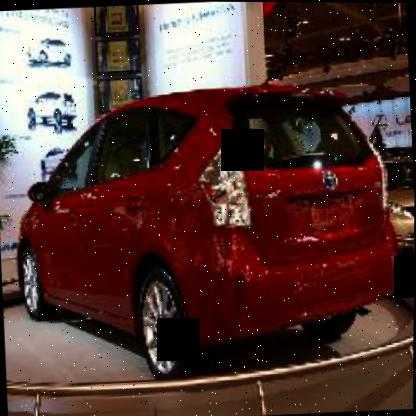not_emergency: (1, 85, 404, 361)
